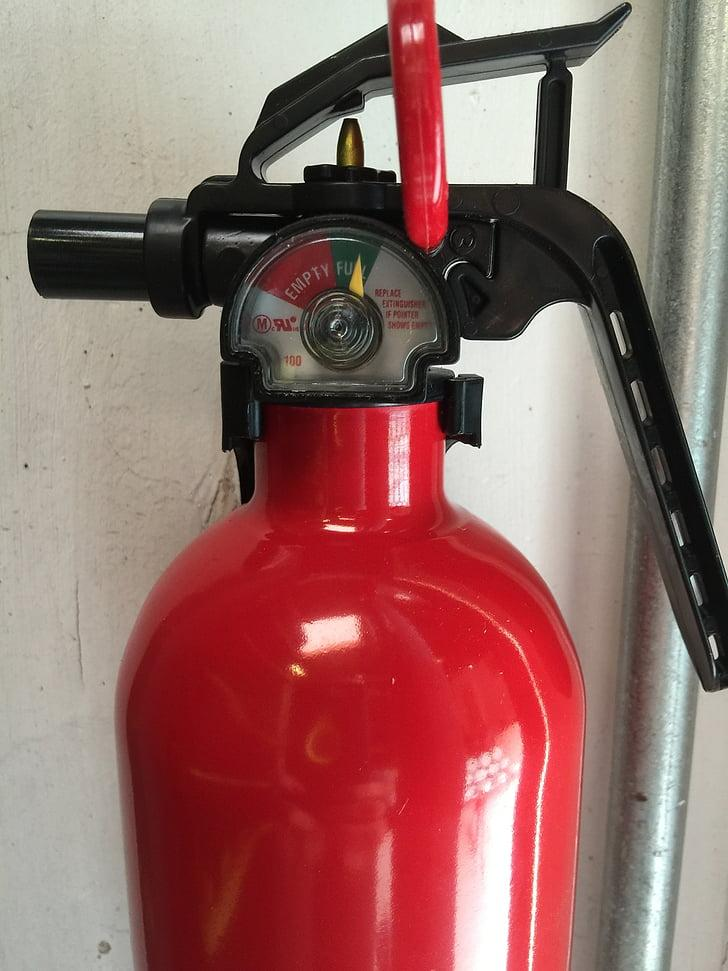Fire Extinguisher: (7, 3, 728, 971)
